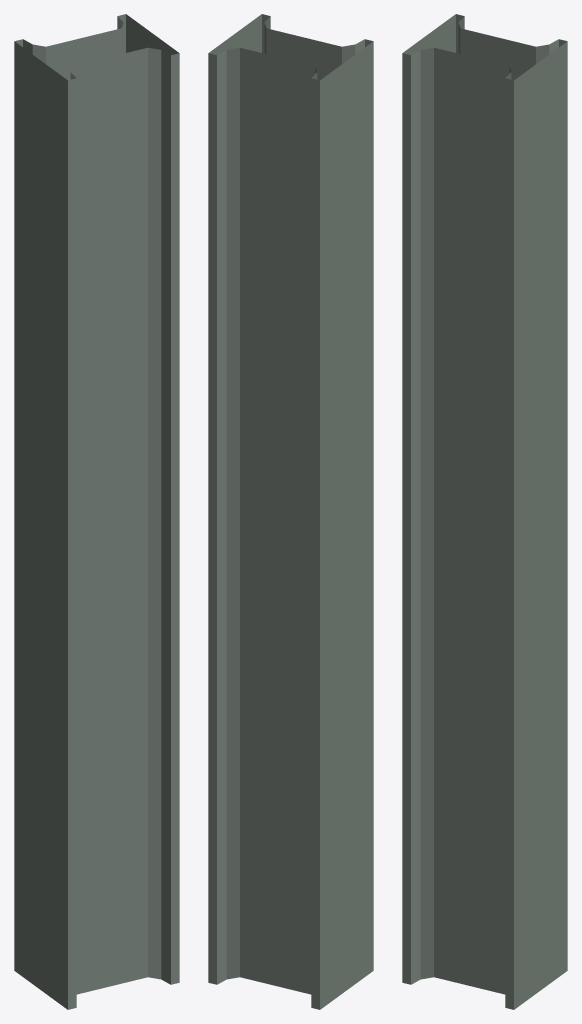
Rendered from SM_metal_short_rod_03.fbx.
3 views of the same model, side by side, from view 1: azimuth 30°, elevation 25°; view 2: azimuth 150°, elevation 25°; view 3: azimuth 330°, elevation 25° (orthographic).
Visible parts, largest first — view 1: metal_short_rod_03; view 2: metal_short_rod_03; view 3: metal_short_rod_03.
Part boxes in pixels (box(x1,y1,x2,y2)): metal_short_rod_03: box(14, 14, 179, 1009); metal_short_rod_03: box(208, 14, 373, 1009); metal_short_rod_03: box(402, 14, 567, 1009).
Bounding box in the file's own units: 21.05 × 167 × 17.46.
